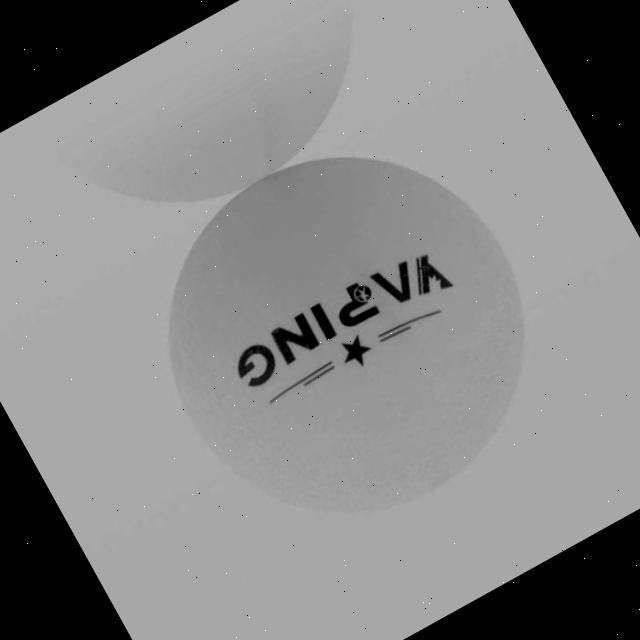ping-pong-ball: (104, 86, 596, 582)
